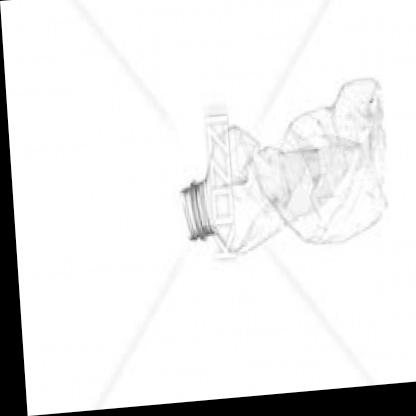Plastic: (148, 52, 408, 302)
